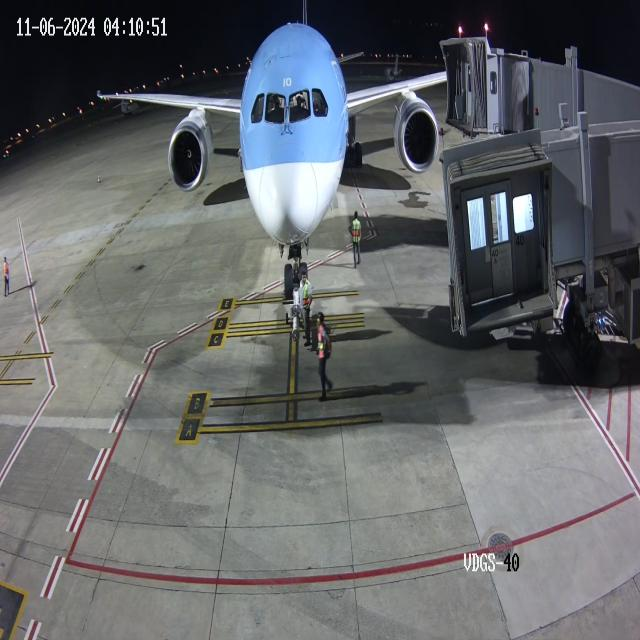bridge: (469, 28, 534, 144)
plane: (87, 1, 432, 302)
window: (248, 81, 333, 134)
